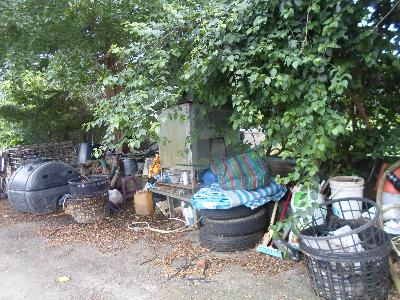bucket: (6, 159, 82, 215), (327, 175, 365, 221), (133, 187, 156, 216), (122, 157, 137, 177)
plastic_bag: (191, 183, 290, 212), (209, 150, 274, 191)
tire: (203, 210, 273, 237), (199, 228, 267, 252)
